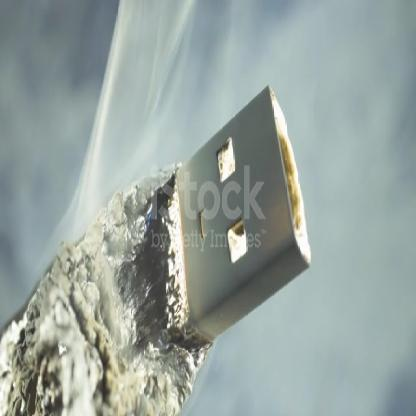smoke: (41, 0, 416, 416)
